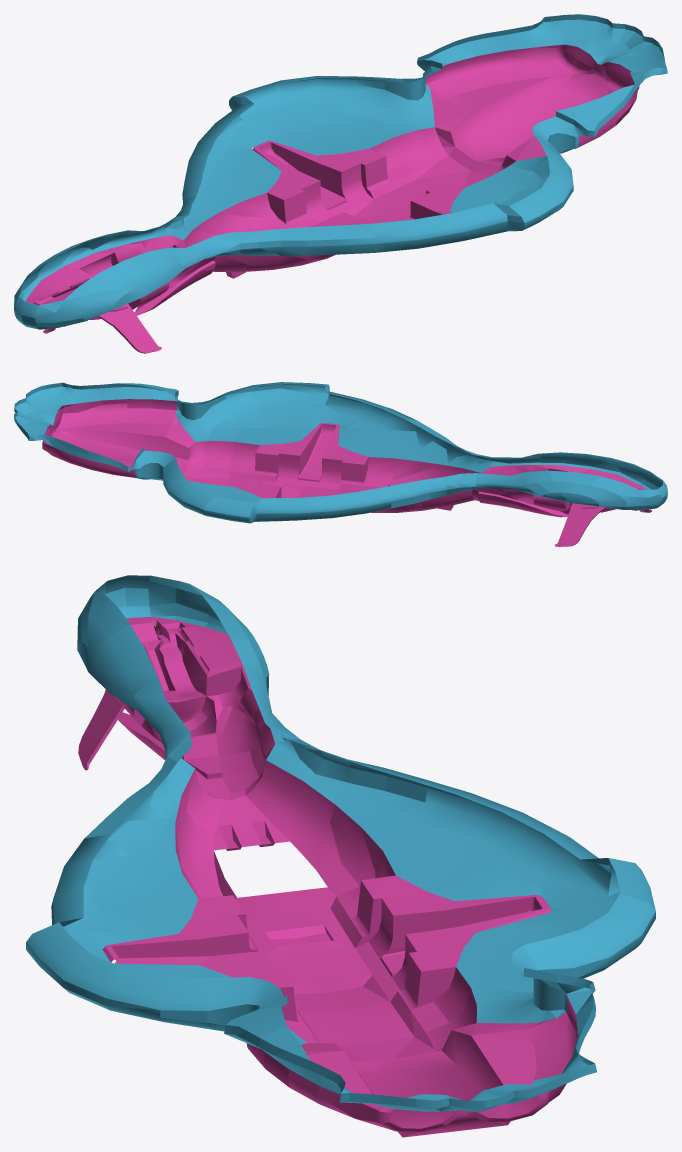
File: ship.fbx
3 renders of one model, top to bottom at view 1: azimuth 30°, elevation 25°; view 2: azimuth 150°, elevation 25°; view 3: azimuth 270°, elevation 25°, orthographic. The views are drawn at different scales.
Visible parts, largest first — view 1: ship; view 2: ship; view 3: ship.
Part boxes in pixels (x1=…): ship: x1=14, y1=14, x2=667, y2=353; ship: x1=14, y1=382, x2=667, y2=546; ship: x1=26, y1=575, x2=655, y2=1137.
Size of the model in its own units: 2338855 by 272721 by 1130835.
